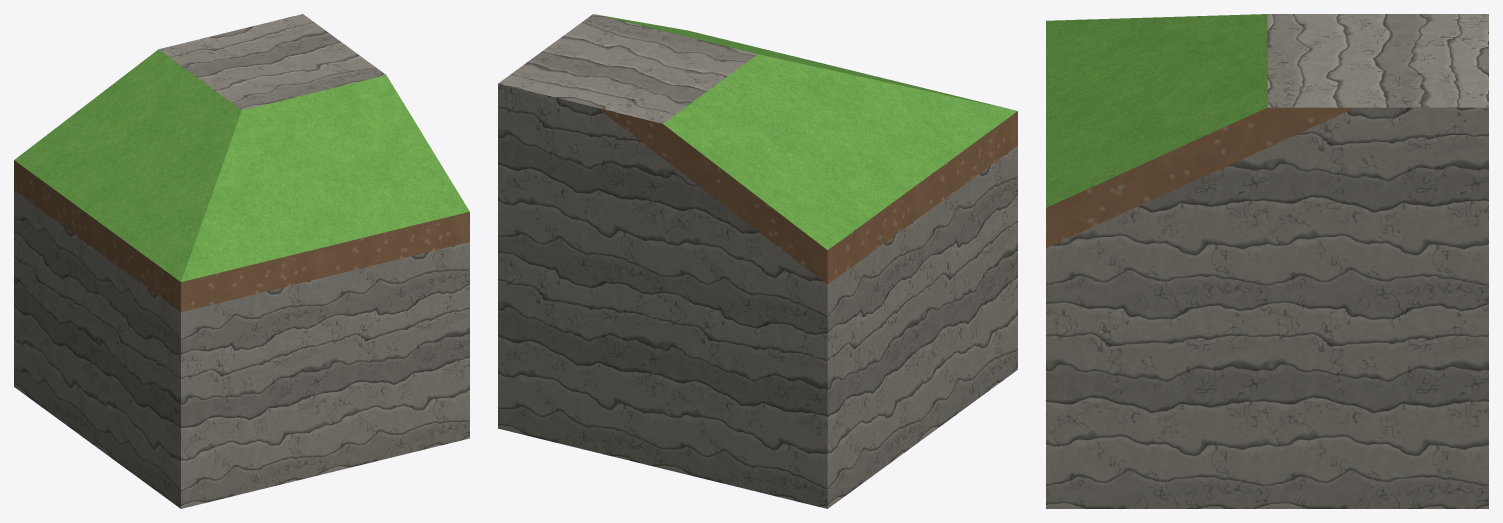
The model's file is Slope_UtoL_OuterCorner_Bottom.fbx.
The picture shows the model from 3 angles, left to right: view 1: azimuth 30°, elevation 25°; view 2: azimuth 150°, elevation 25°; view 3: azimuth 270°, elevation 25°; orthographic projection. The views are drawn at different scales.
Parts seen in each view (by area): view 1: Slope_UtoL_OuterCorner_Bottom; view 2: Slope_UtoL_OuterCorner_Bottom; view 3: Slope_UtoL_OuterCorner_Bottom.
Boxes of the visible parts, box(x1,y1,x2,y2) form: Slope_UtoL_OuterCorner_Bottom: box(14, 14, 469, 508); Slope_UtoL_OuterCorner_Bottom: box(498, 14, 1017, 508); Slope_UtoL_OuterCorner_Bottom: box(1046, 14, 1488, 508).
Bounding box in the file's own units: 3 × 3 × 3.
3 materials, 3 textured.
